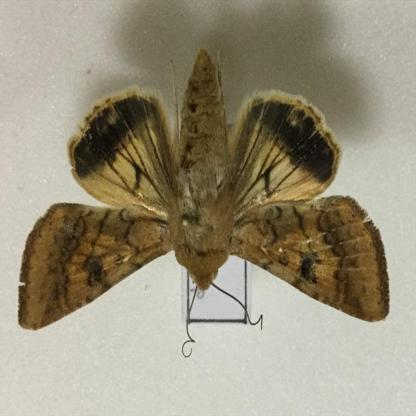helicoverpa: (16, 54, 389, 333)
